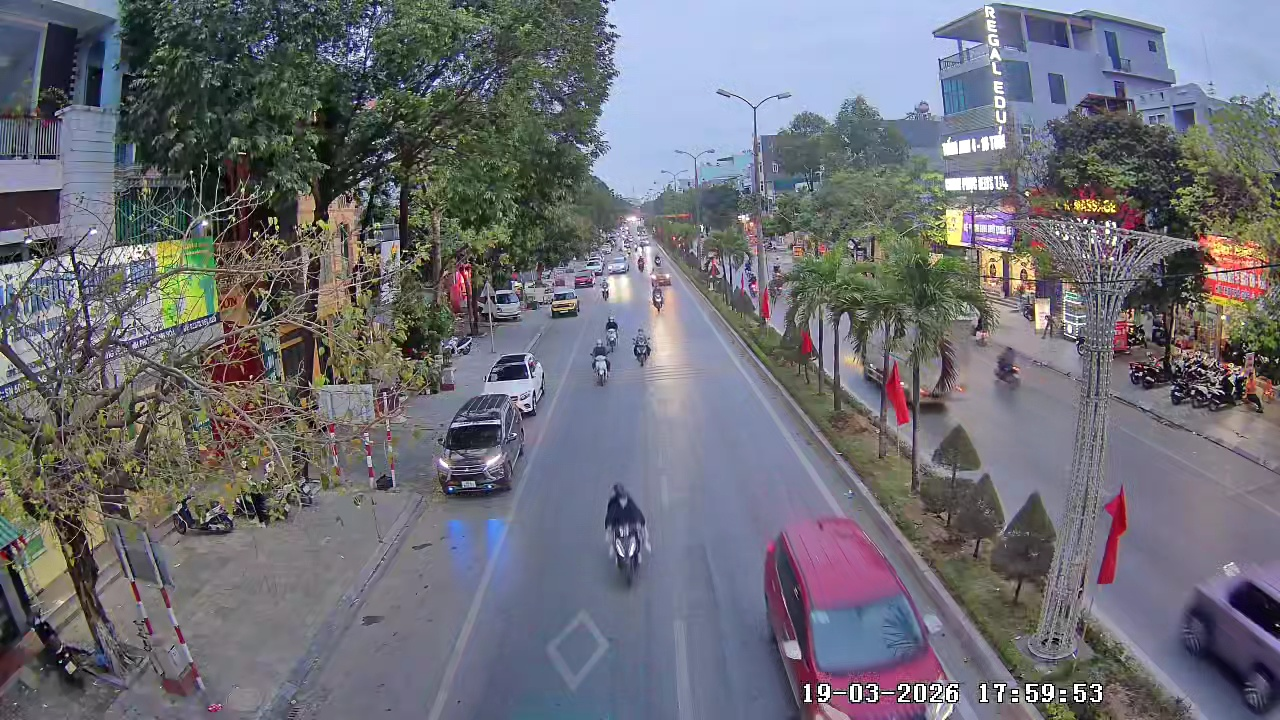car: (760, 514, 959, 719), (1176, 560, 1279, 717), (435, 393, 527, 496), (485, 350, 547, 417), (550, 286, 581, 318)
motorbike: (601, 479, 652, 588), (994, 345, 1023, 390), (589, 338, 613, 387), (631, 324, 654, 366), (651, 274, 669, 313), (604, 314, 621, 351), (598, 277, 614, 307)
